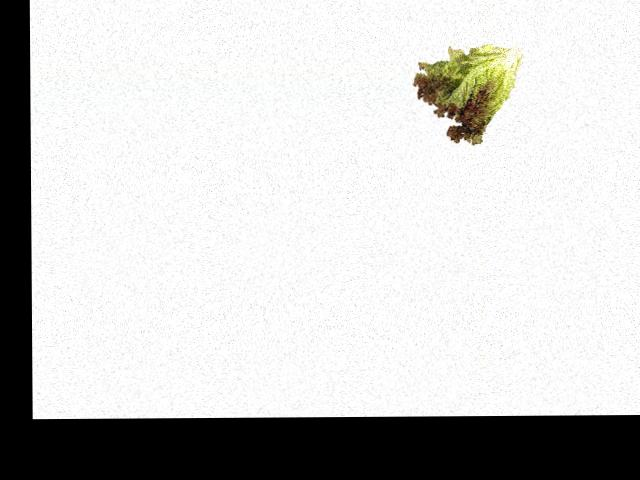lettuce: (412, 45, 521, 144)
